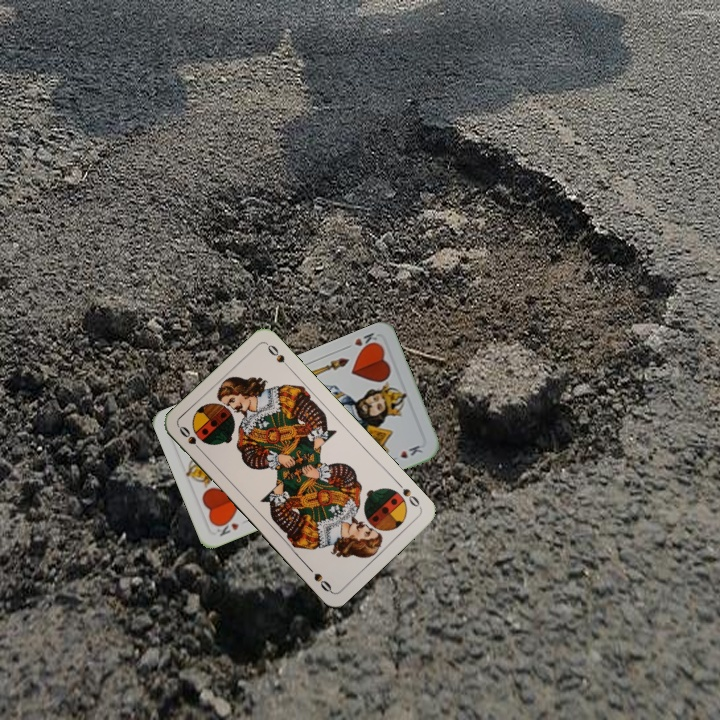HK: (340, 328, 381, 354), (210, 515, 242, 539)
SO: (175, 422, 206, 456), (392, 478, 423, 511)
